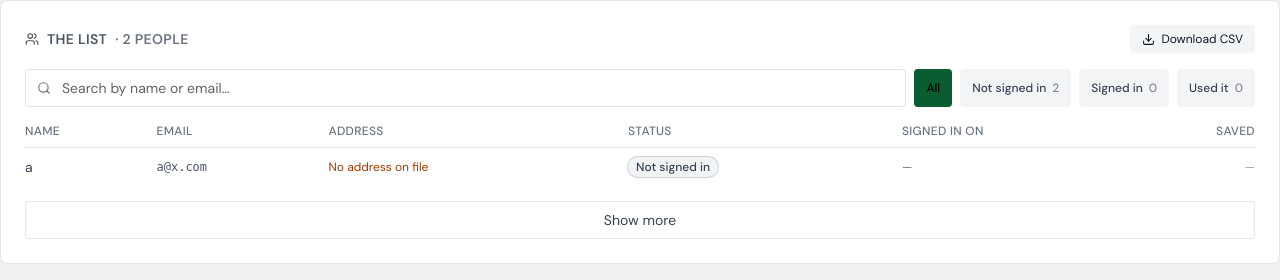
Test case: MemberRosterPanel › appends the next page instead of replacing the current one
This screenshot has width=1280, height=280.
Click the button "Show more" at (640, 220), box [25,201,1255,239]
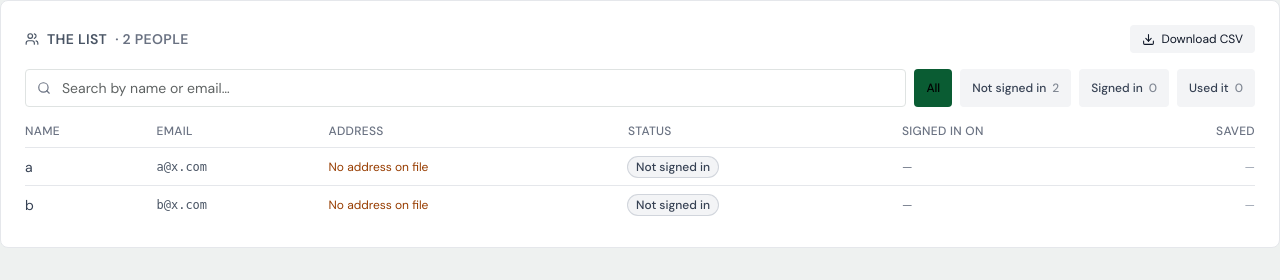
Expected: the text "a@x.com" is shown, [156,148,328,186]
Now the text "b@x.com" is shown, box [156,186,328,223]
